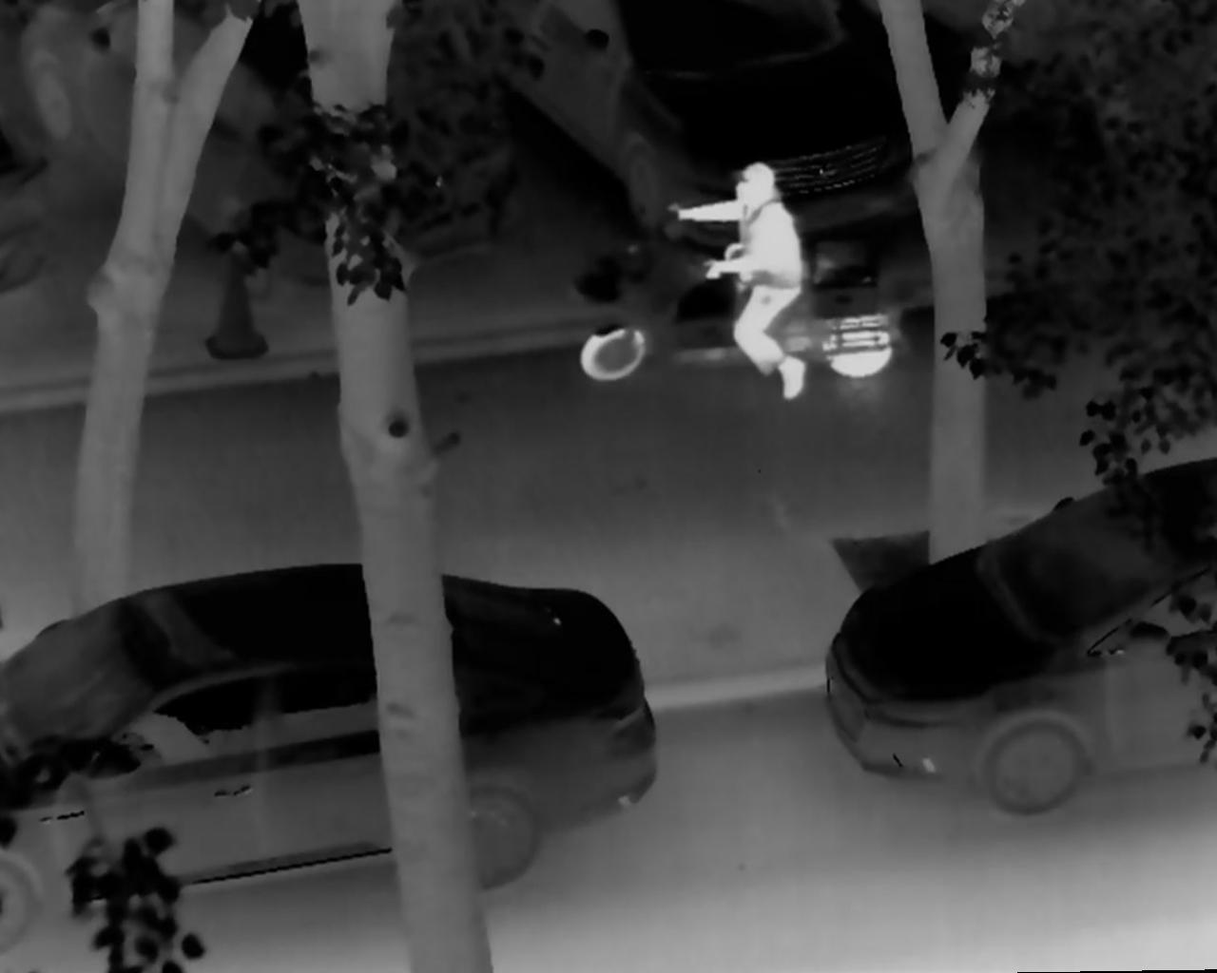person: (664, 158, 813, 406)
